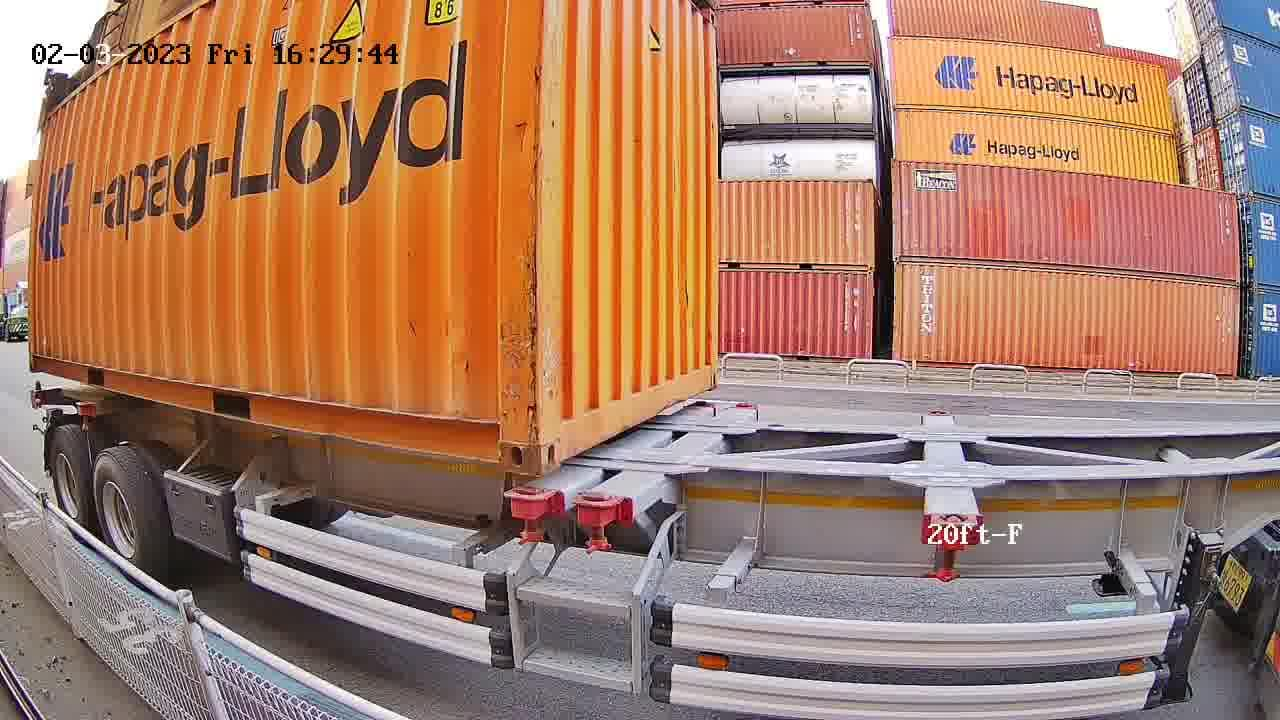Chassis: (506, 401, 718, 501), (575, 405, 759, 506)
Cone: (503, 486, 558, 546), (575, 494, 627, 555)
Hole_L: (536, 389, 583, 475)
Hole_R: (463, 399, 537, 476), (700, 354, 720, 393)
Tire: (94, 457, 151, 578), (50, 431, 92, 540)
